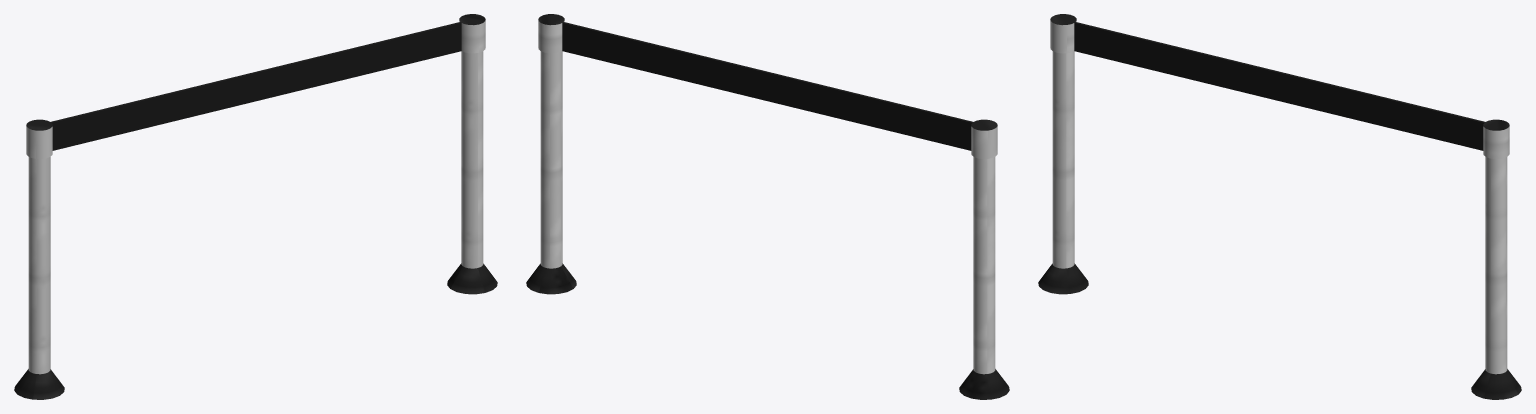
The model's file is Barricades.fbx.
The picture shows the model from 3 angles, left to right: view 1: azimuth 30°, elevation 25°; view 2: azimuth 150°, elevation 25°; view 3: azimuth 330°, elevation 25°; orthographic projection.
Visible parts, largest first — view 1: Cylinder.001, Cylinder; view 2: Cylinder.001, Cylinder; view 3: Cylinder.001, Cylinder.
Boxes of the visible parts, left/top/right/bottom form: Cylinder.001: left=14, top=22, right=461, bottom=399; Cylinder: left=447, top=14, right=497, bottom=294; Cylinder.001: left=562, top=22, right=1009, bottom=399; Cylinder: left=526, top=14, right=576, bottom=294; Cylinder.001: left=1038, top=14, right=1484, bottom=294; Cylinder: left=1471, top=119, right=1521, bottom=399.
Bounding box in the file's own units: 4965 × 2626 × 460.
